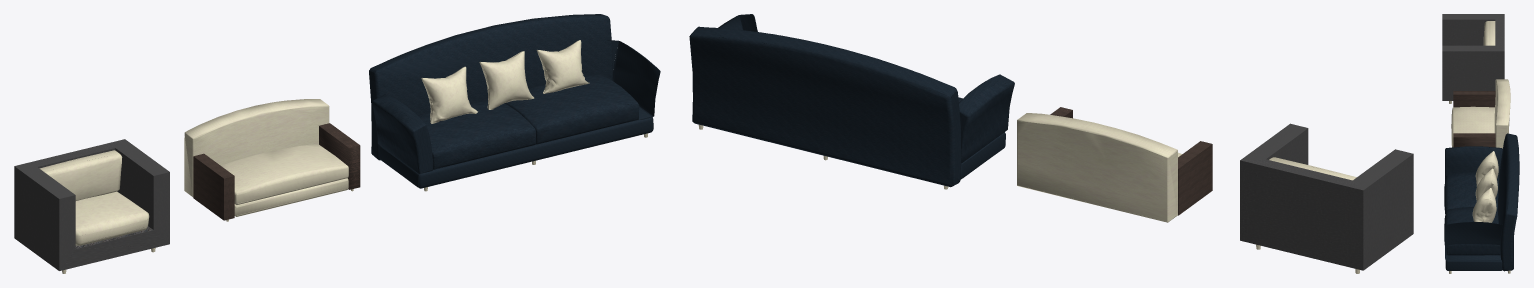
The model's file is sofa-2.glb.
3 views of the same model, side by side, from view 1: azimuth 30°, elevation 25°; view 2: azimuth 150°, elevation 25°; view 3: azimuth 270°, elevation 25° (orthographic). The views are drawn at different scales.
Visible parts, largest first — view 1: ChamferBox001_Material #0_0; view 2: ChamferBox001_Material #0_0; view 3: ChamferBox001_Material #0_0.
Part boxes in pixels (left/top/right/bottom): ChamferBox001_Material #0_0: left=14, top=14, right=660, bottom=273; ChamferBox001_Material #0_0: left=689, top=14, right=1413, bottom=273; ChamferBox001_Material #0_0: left=1442, top=14, right=1519, bottom=273.
Bounding box in the file's own units: 0.0381 × 0.00623 × 0.00611.
6 materials, 6 textured.
